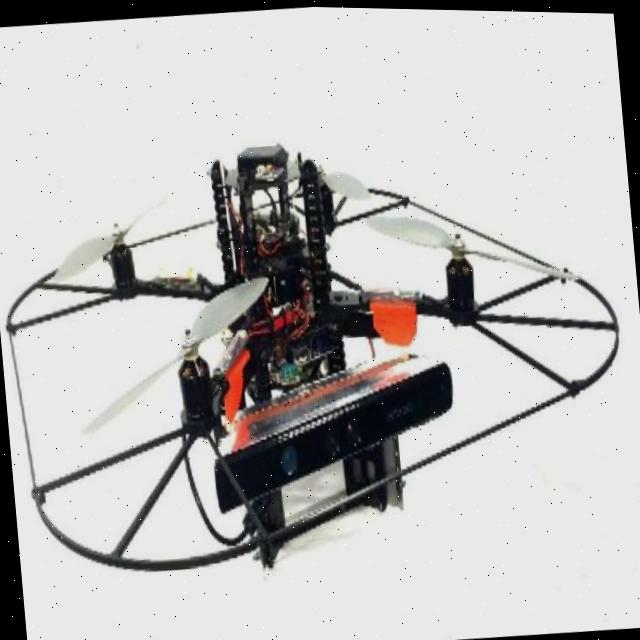drone: (15, 122, 629, 546)
